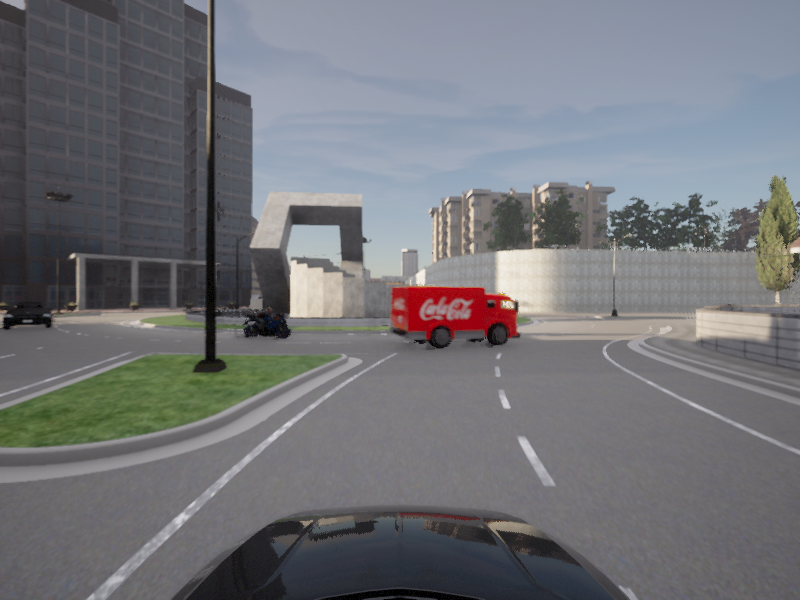vehicle: (387, 285, 527, 351), (240, 307, 293, 340), (1, 301, 53, 331)
